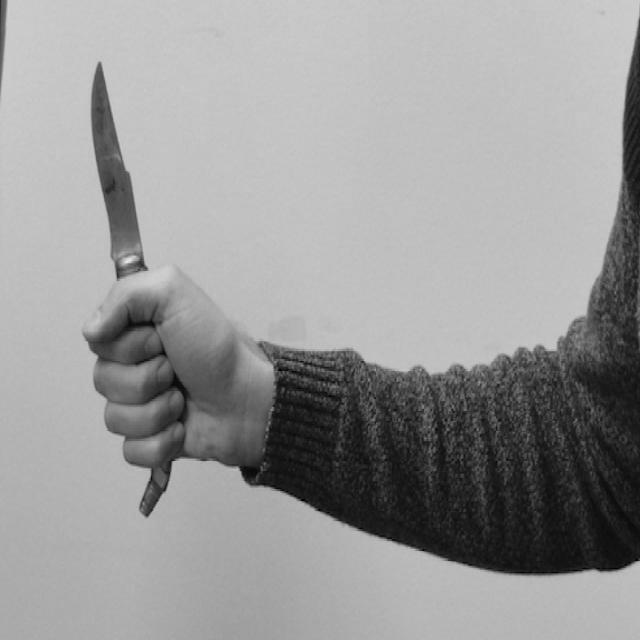weapon: (84, 56, 148, 274), (138, 470, 178, 522)
